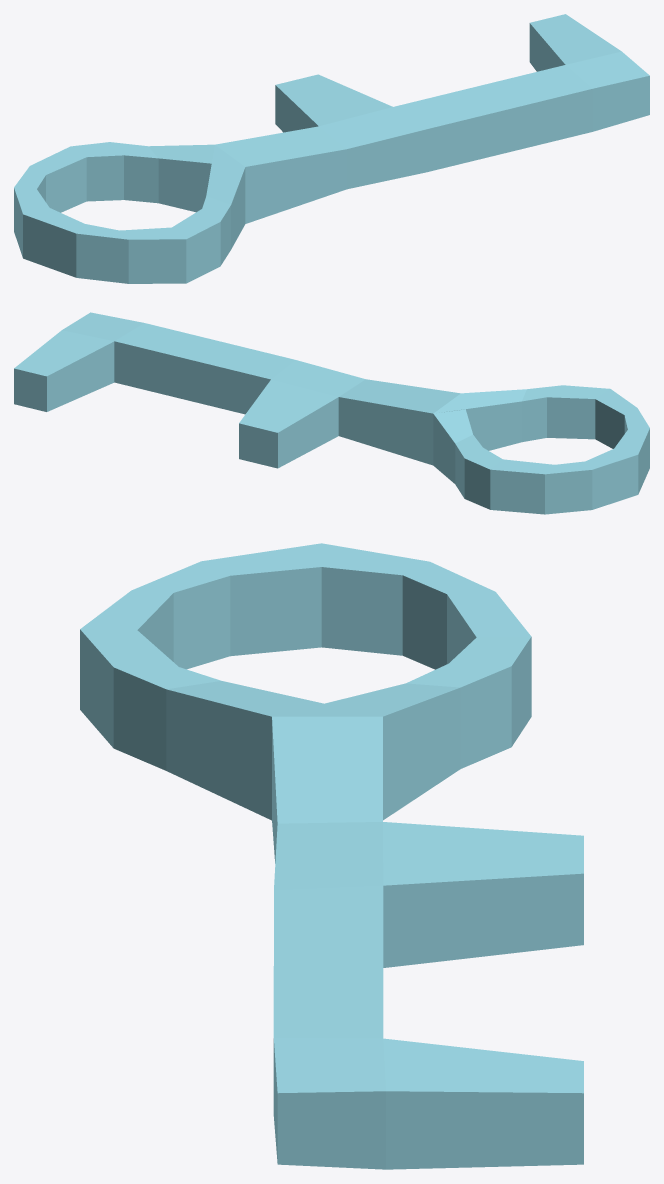
Rendered from MithrilKey.glb.
3 views of the same model, one above another, from view 1: azimuth 30°, elevation 25°; view 2: azimuth 150°, elevation 25°; view 3: azimuth 270°, elevation 25° (orthographic). The views are drawn at different scales.
Visible parts, largest first — view 1: MithrilKey__Cube; view 2: MithrilKey__Cube; view 3: MithrilKey__Cube.
Part boxes in pixels (x1,y1,x2,y2): MithrilKey__Cube: (14,14,649,283); MithrilKey__Cube: (14,312,649,514); MithrilKey__Cube: (80,543,583,1169).
Size of the model in its own units: 0.85 by 0.0753 by 0.3309.
